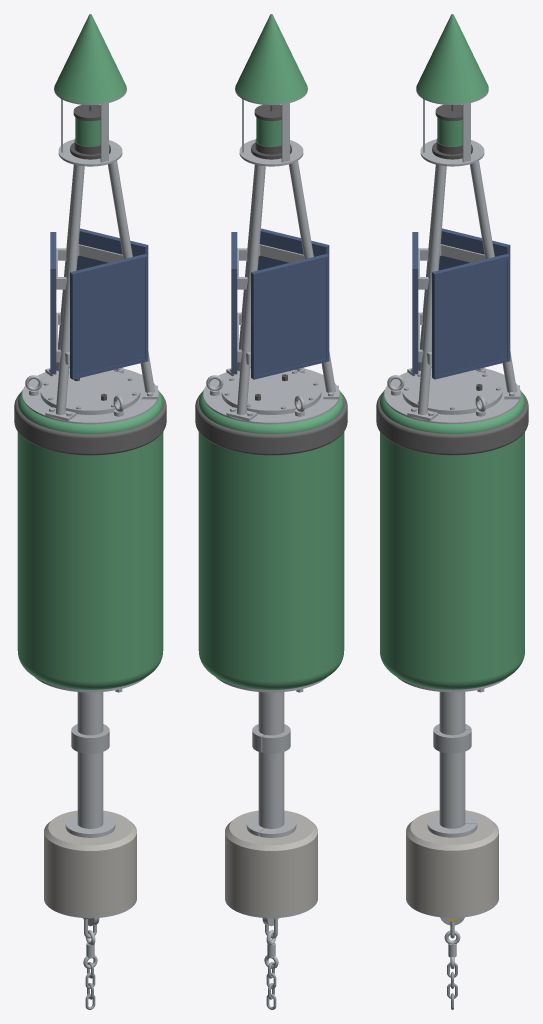
File: esp2024_buoy_green.glb
3 renders of one model, left to right at view 1: azimuth 30°, elevation 25°; view 2: azimuth 150°, elevation 25°; view 3: azimuth 270°, elevation 25°, orthographic.
Parts seen in each view (by area): view 1: float hull, solar panel 1, ballast ring, topmark, fender ring, tail tube, hatch lid, tripod leg 2, deck plate, tripod leg 3, solar panel 2, solar panel 3 (+9 smaller); view 2: float hull, solar panel 3, ballast ring, topmark, fender ring, tail tube, hatch lid, tripod leg 1, deck plate, tripod leg 2, solar panel 1, solar panel 2 (+9 smaller); view 3: float hull, solar panel 2, ballast ring, topmark, fender ring, tail tube, hatch lid, tripod leg 3, deck plate, tripod leg 1, solar panel 3, solar panel 1 (+9 smaller).
Boxes of the visible parts, x1,y1,x2,y2 form: float hull: [17, 390, 163, 689]; solar panel 1: [70, 254, 148, 379]; ballast ring: [44, 810, 136, 915]; topmark: [54, 14, 126, 103]; fender ring: [14, 392, 166, 455]; tail tube: [44, 692, 136, 918]; hatch lid: [40, 370, 140, 412]; tripod leg 2: [45, 165, 84, 421]; deck plate: [22, 368, 158, 424]; tripod leg 3: [107, 161, 157, 399]; solar panel 2: [76, 228, 148, 270]; solar panel 3: [50, 232, 56, 374]; float hull: [198, 390, 344, 689]; solar panel 3: [251, 254, 329, 379]; ballast ring: [225, 810, 317, 915]; topmark: [235, 14, 307, 103]; fender ring: [195, 392, 347, 455]; tail tube: [225, 692, 317, 918]; hatch lid: [221, 370, 321, 412]; tripod leg 1: [226, 165, 265, 421]; deck plate: [203, 368, 339, 424]; tripod leg 2: [288, 161, 338, 399]; solar panel 1: [257, 228, 329, 270]; solar panel 2: [231, 232, 237, 374]; float hull: [380, 390, 524, 689]; solar panel 2: [432, 254, 510, 379]; ballast ring: [406, 810, 498, 915]; topmark: [416, 14, 488, 103]; fender ring: [376, 392, 528, 455]; tail tube: [406, 692, 498, 917]; hatch lid: [402, 370, 502, 412]; tripod leg 3: [407, 165, 446, 420]; deck plate: [384, 368, 520, 424]; tripod leg 1: [469, 161, 519, 399]; solar panel 3: [438, 228, 510, 270]; solar panel 1: [412, 232, 418, 374].
Bounding box in the file's own units: 524 × 3778 × 524.
